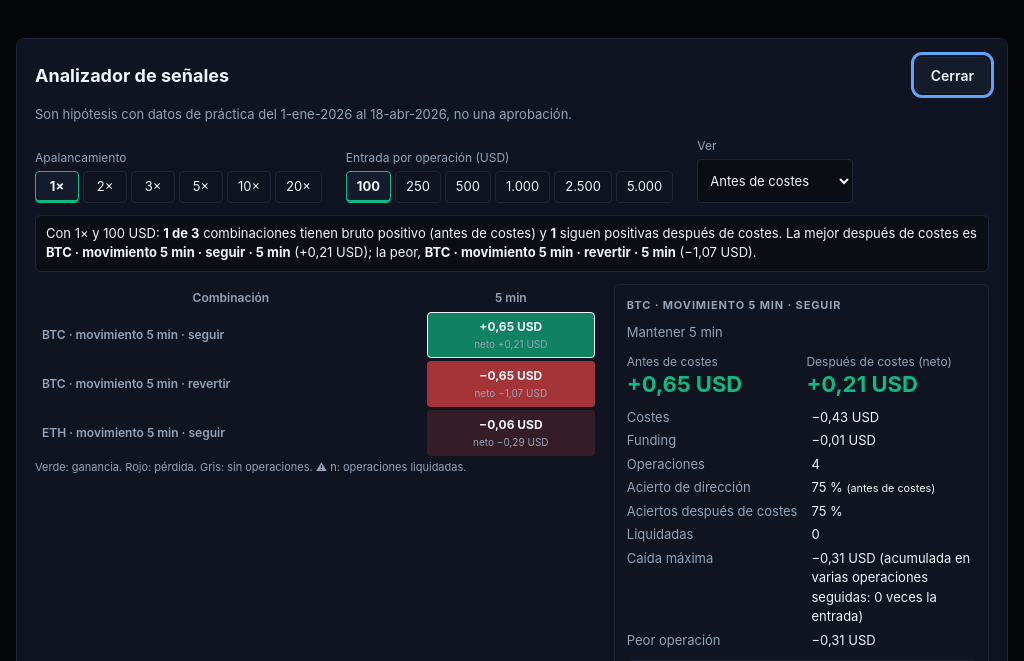
Scenario: Analizador de señales › al cambiar la entrada cambian los números
Expected: the element with test id "analyzer-summary" is shown, [35,215,989,272]
Click the button "1.000": (523, 187) [495,171,550,203]
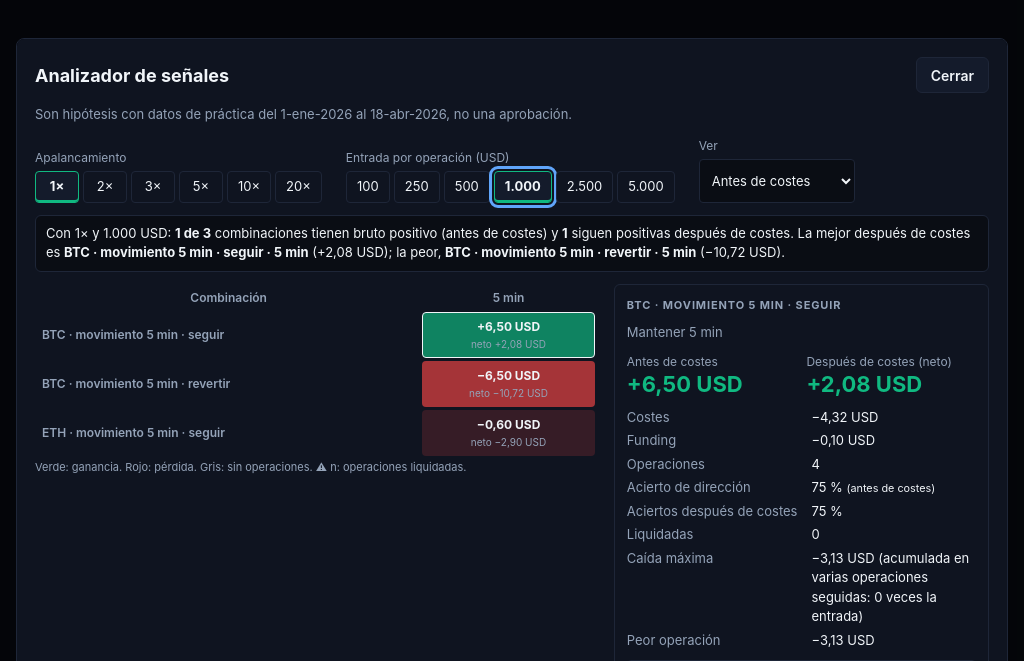
Result: the text with test id "detail-net" reads "+2,08 USD" at [806,371,922,397]
